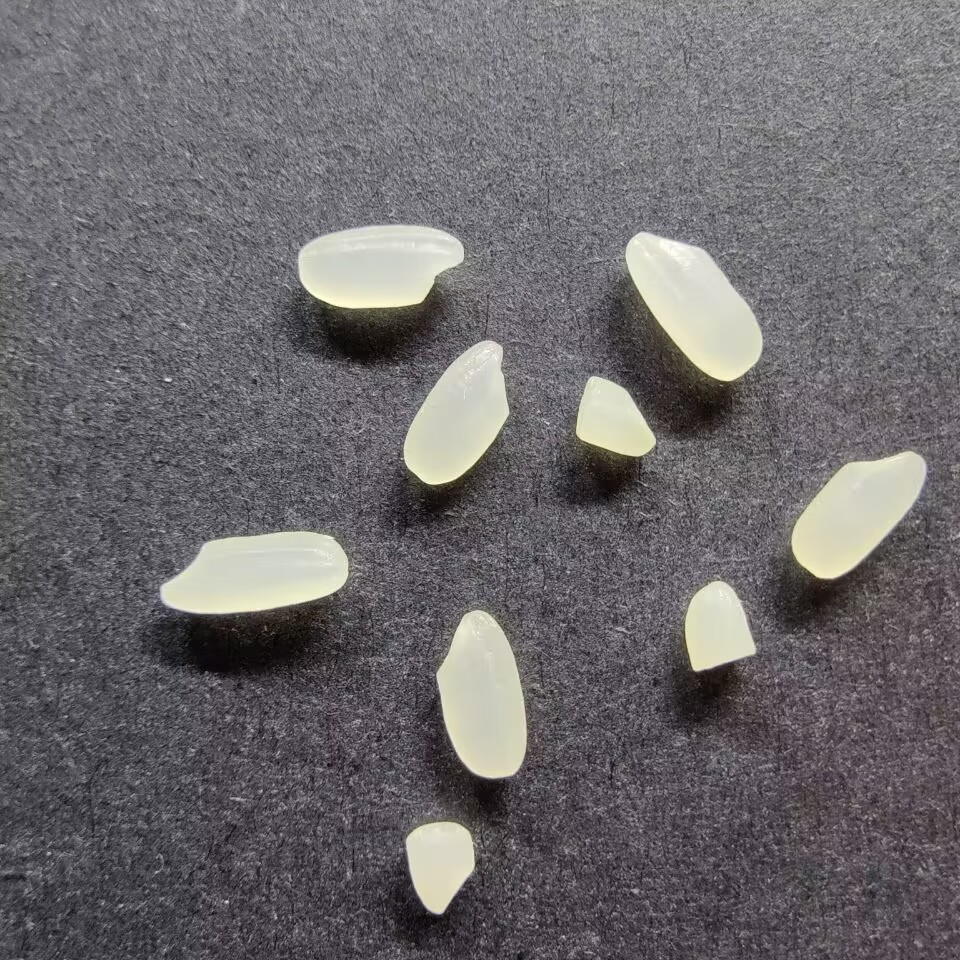broken: (683, 579, 758, 673), (403, 821, 476, 915), (574, 376, 655, 457)
rice: (625, 229, 763, 383), (789, 449, 929, 580), (399, 339, 512, 488), (157, 530, 348, 615), (434, 608, 527, 782), (296, 223, 466, 309)
